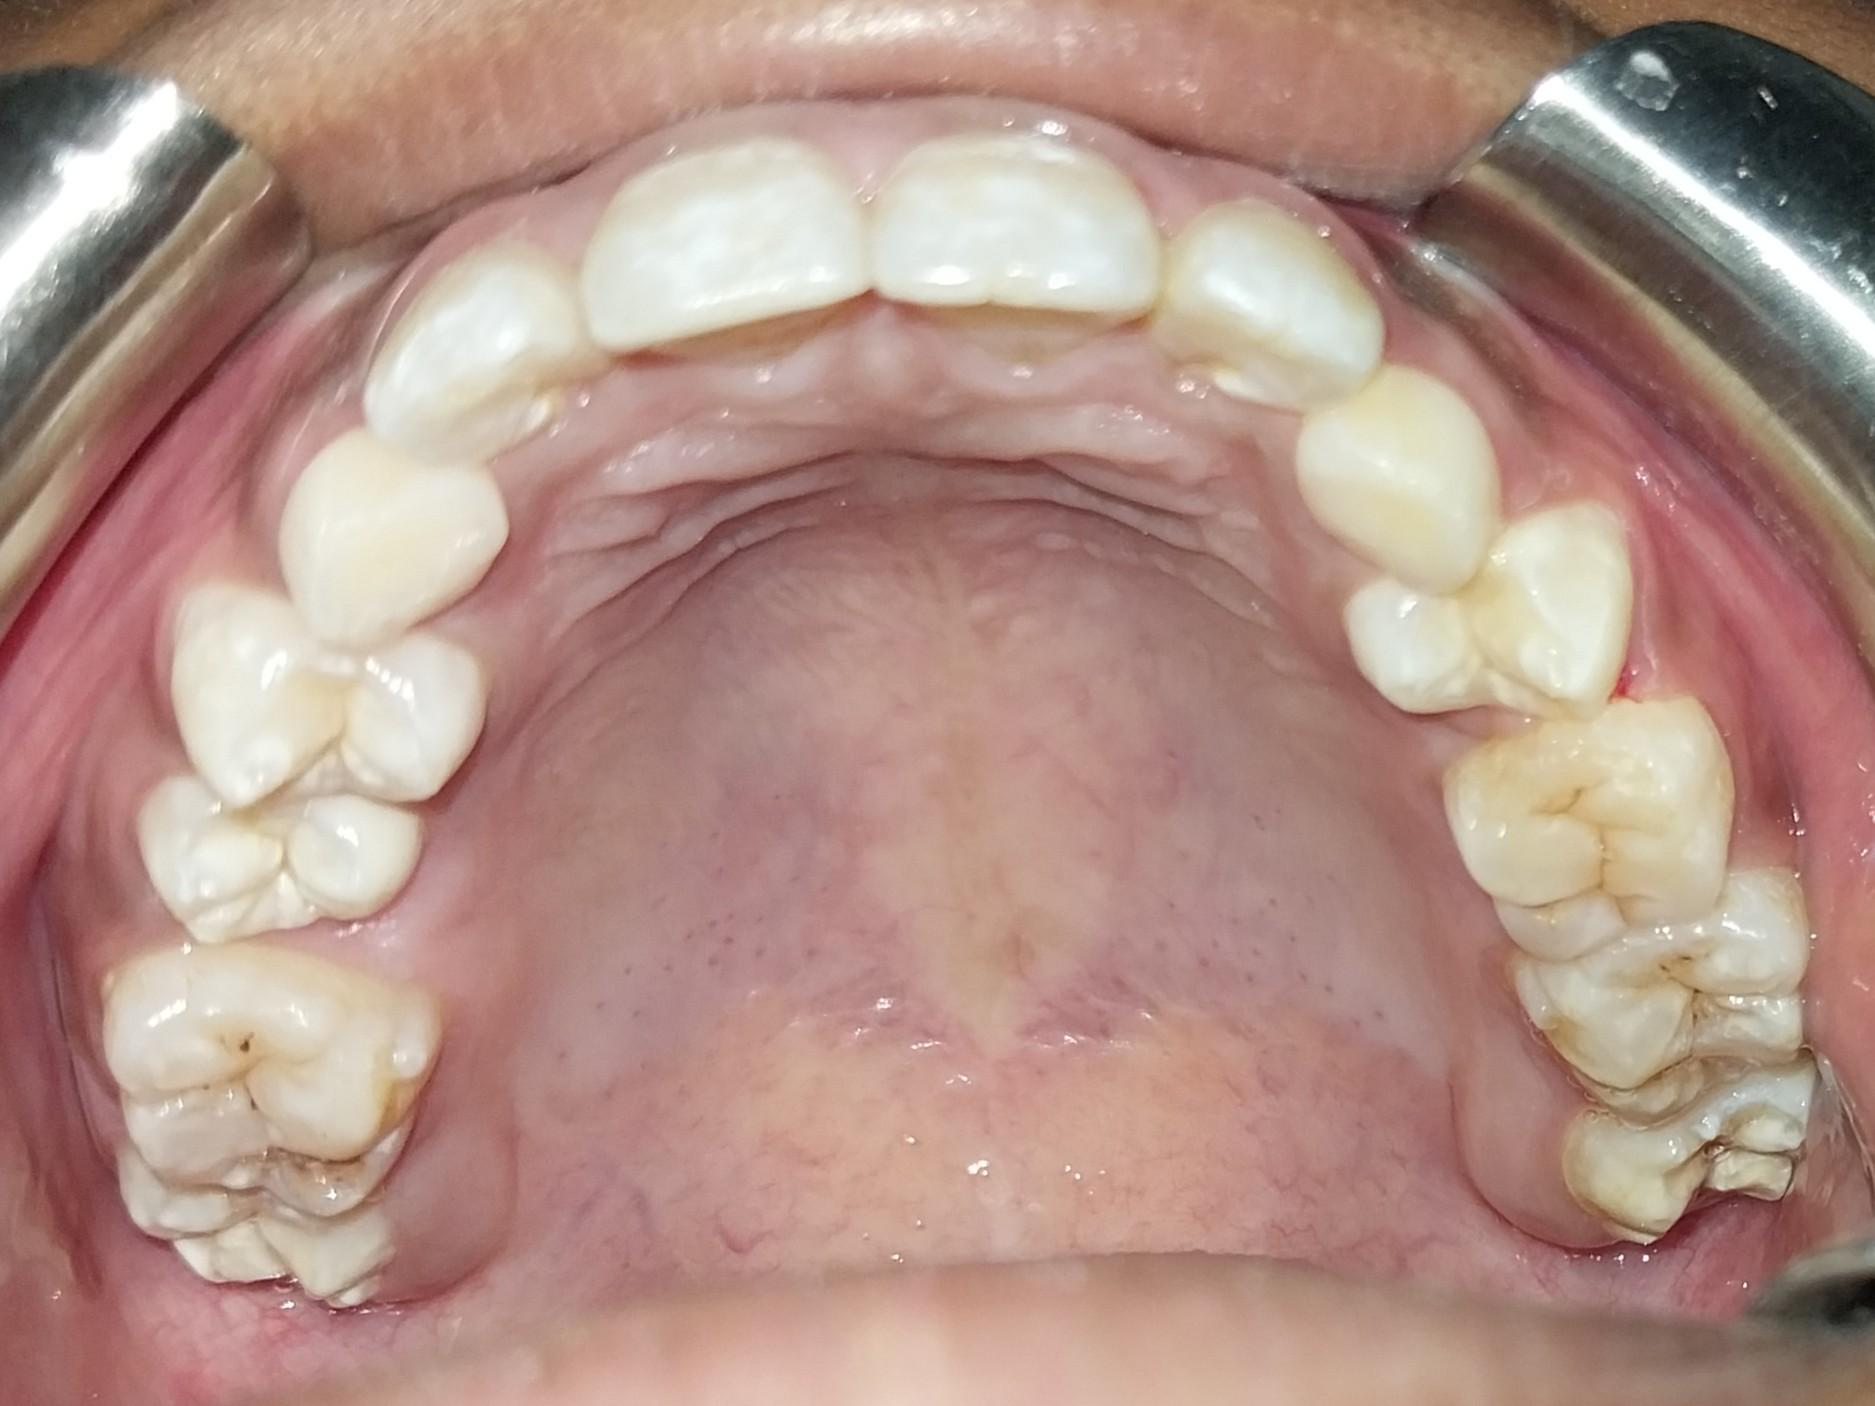D: (92, 967, 429, 1212)
